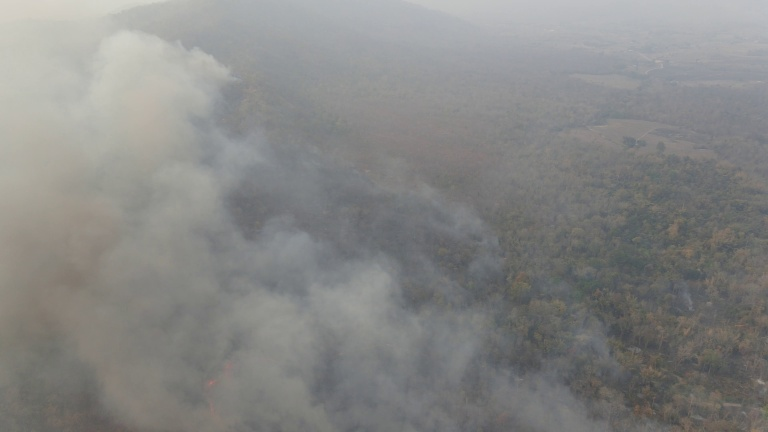fire: (203, 359, 236, 431)
smoke: (16, 37, 276, 422), (148, 247, 451, 425)
